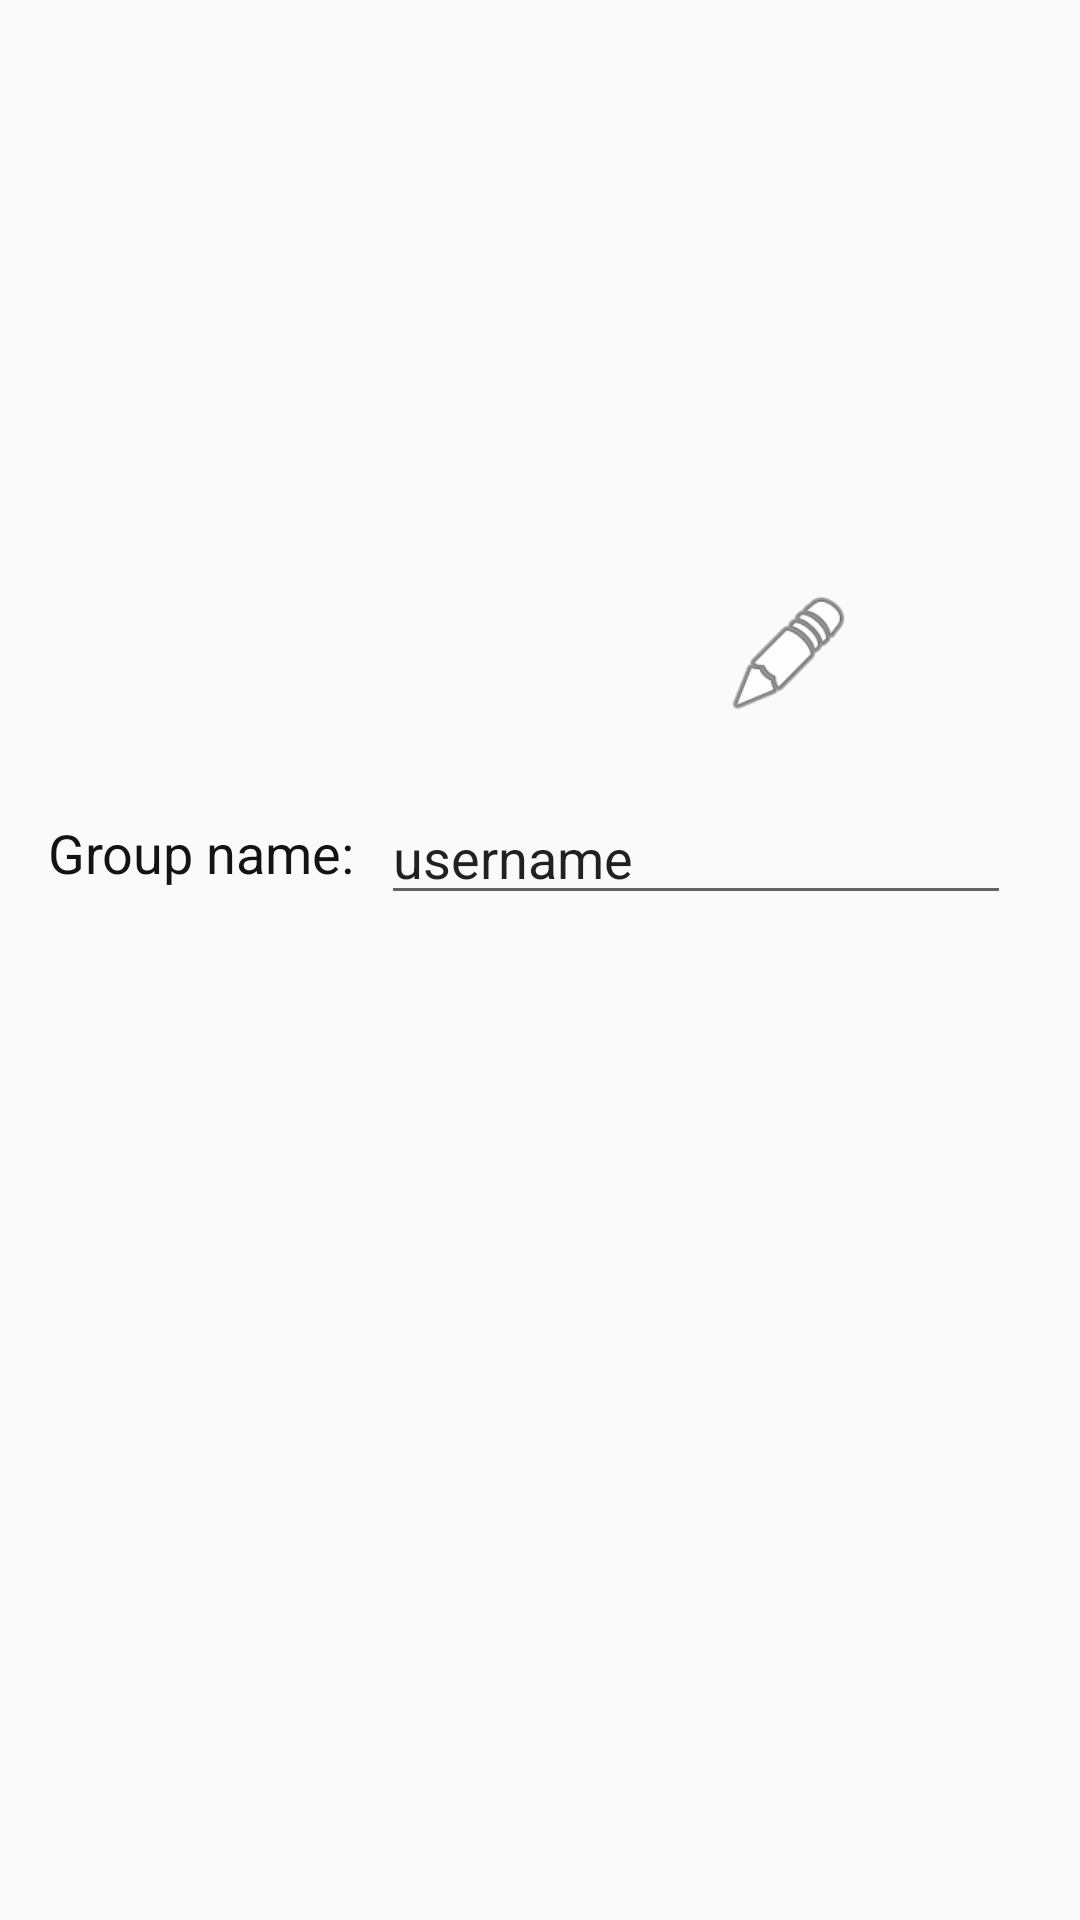

Icons on this 1080 × 1920 Android screen, each with the point to tap as [x,y]:
edit: [788,653]
